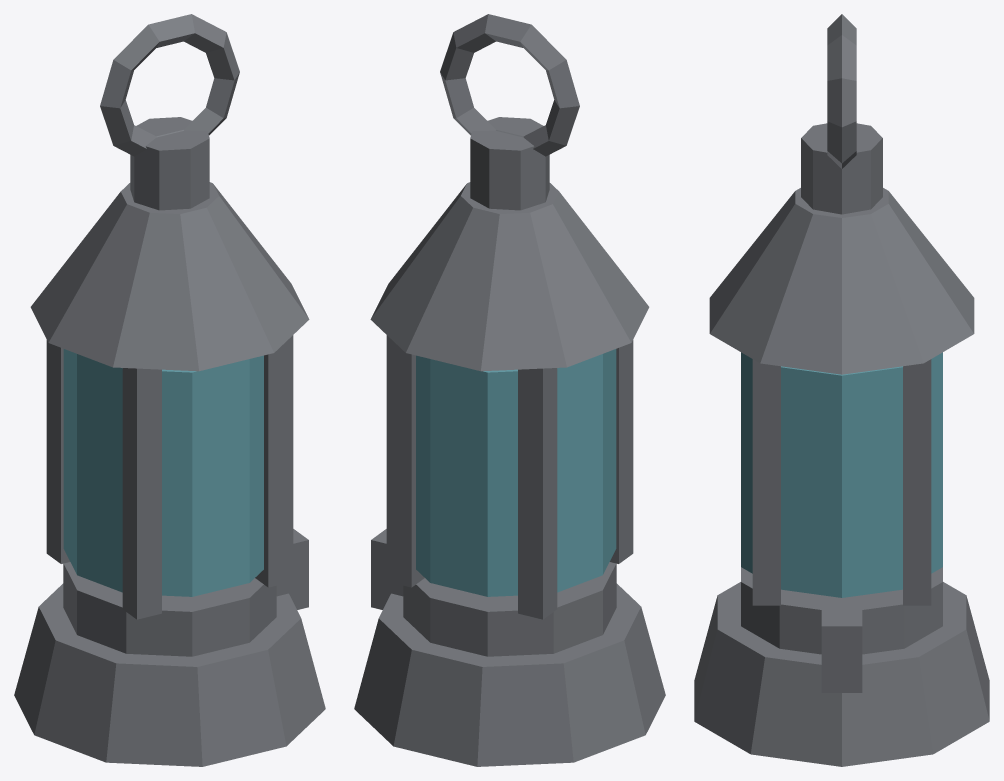
File: lighthouse-and-rocky-coast-storm-lantern-0aaf62a0__36632.glb
3 views of the same model, side by side, from view 1: azimuth 30°, elevation 25°; view 2: azimuth 150°, elevation 25°; view 3: azimuth 270°, elevation 25° (orthographic).
Parts seen in each view (by area): view 1: storm-lantern; view 2: storm-lantern; view 3: storm-lantern.
Part boxes in pixels (<box>): storm-lantern: <box>14,14,325,766</box>; storm-lantern: <box>354,14,665,766</box>; storm-lantern: <box>694,14,989,766</box>.
Size of the model in its own units: 0.3799 by 0.9132 by 0.3614.
